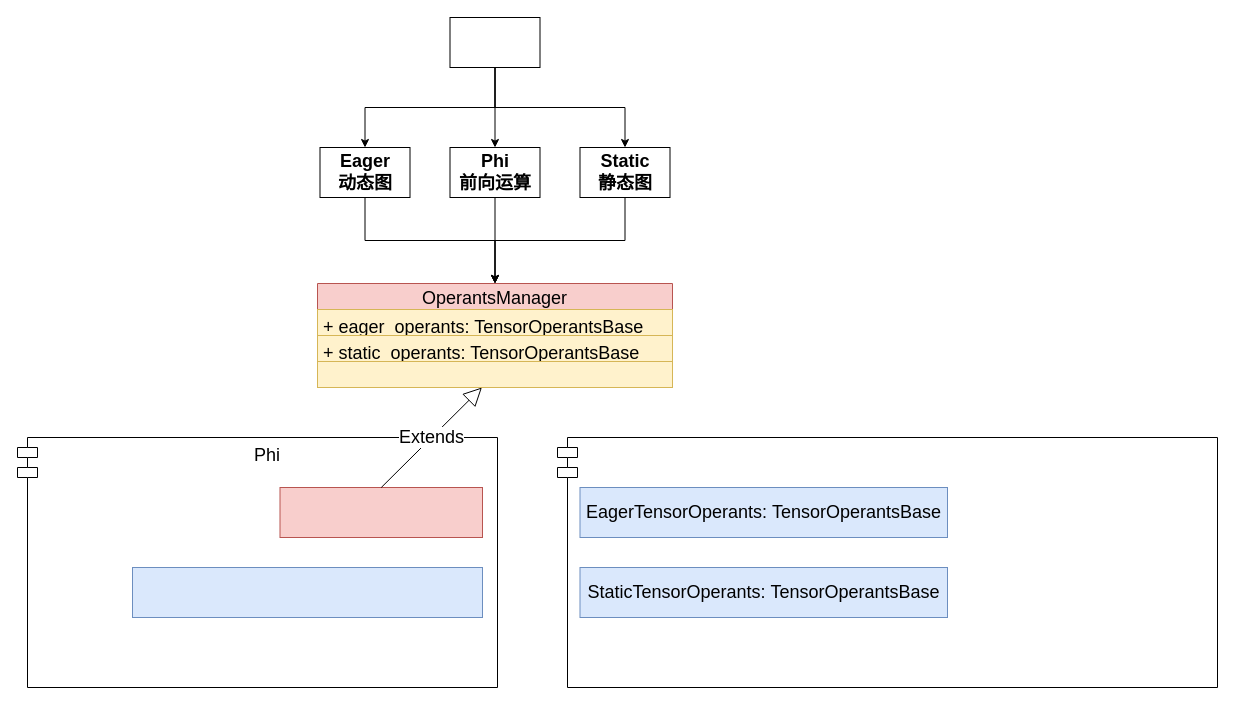
This 1235x705 diagram has some shape labels left out. The box of each missing label's shape, as (x1, y1, x2, y2) in pixels:
+ phi_operants: TensorOperantsBase: (316, 360, 672, 388)
Framework: (556, 436, 1218, 688)
Init: (449, 16, 540, 68)
PhiTensorOperants: TensorOperantsBase: (132, 566, 482, 618)
«interface» TensorOperantsBase: (279, 486, 482, 538)
